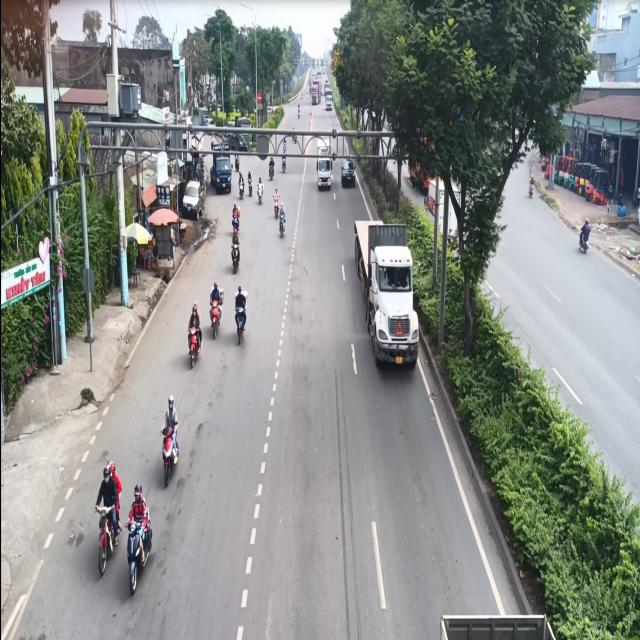car: (339, 152, 356, 194)
motorbike: (122, 482, 156, 605), (95, 452, 125, 581), (154, 387, 179, 477), (185, 295, 201, 374), (231, 283, 250, 348), (208, 278, 223, 344), (229, 231, 241, 274), (272, 185, 280, 214)
truck: (348, 210, 422, 384), (314, 130, 333, 196)
